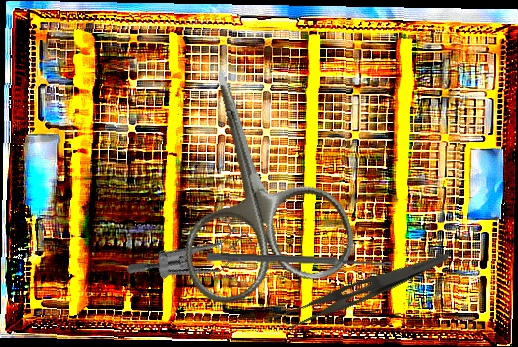Dressing Forceps: (272, 233, 451, 342)
Iris Scissors: (140, 49, 362, 311)
Speculum: (124, 175, 267, 321)
Surgical Spoon: (206, 252, 394, 269)
